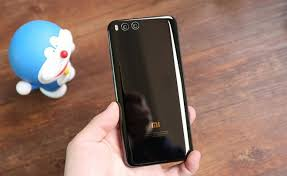mi: (101, 10, 199, 171)
